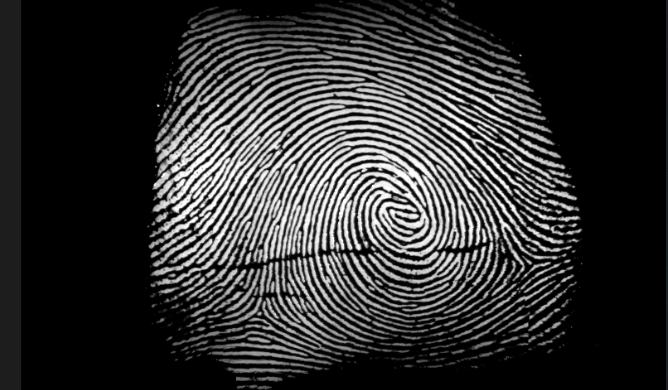nucelo: (384, 201, 425, 229)
verticilo: (505, 241, 552, 284), (246, 291, 270, 325)
